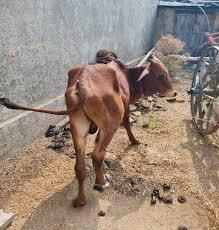fracture: (81, 142, 118, 207)
